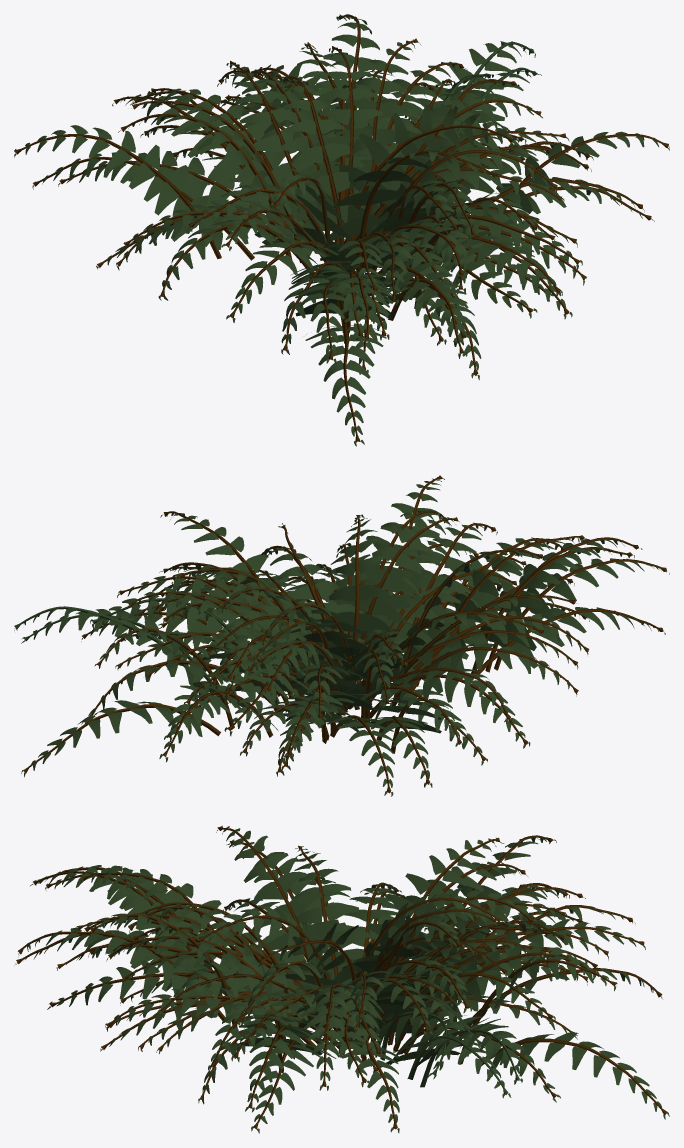
Rendered from Fern_One.fbx.
3 renders of one model, top to bottom at view 1: azimuth 30°, elevation 25°; view 2: azimuth 150°, elevation 25°; view 3: azimuth 270°, elevation 25°, orthographic. The views are drawn at different scales.
Parts seen in each view (by area): view 1: fern31Leaf; view 2: fern31Leaf; view 3: fern31Leaf.
Part boxes in pixels (x1=…): fern31Leaf: x1=14, y1=14, x2=669, y2=446; fern31Leaf: x1=14, y1=475, x2=669, y2=796; fern31Leaf: x1=15, y1=825, x2=669, y2=1133.
Size of the model in its own units: 14.94 by 4.84 by 17.75.
